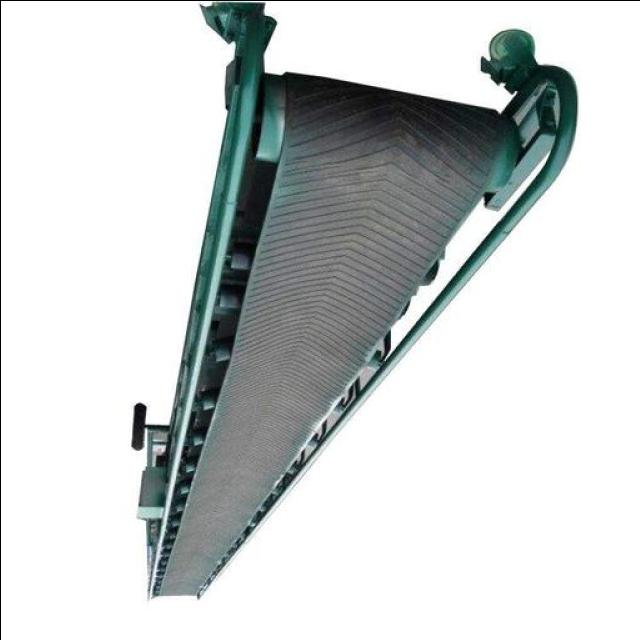conveyor: (153, 75, 503, 596)
